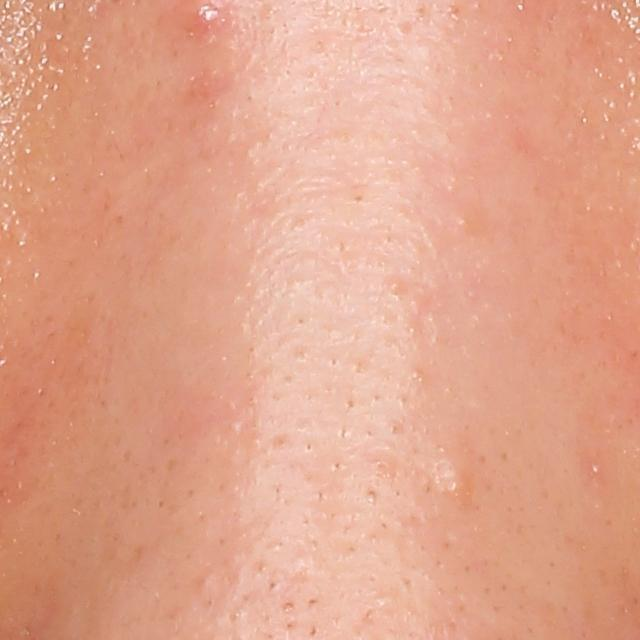papule: (191, 2, 226, 30)
